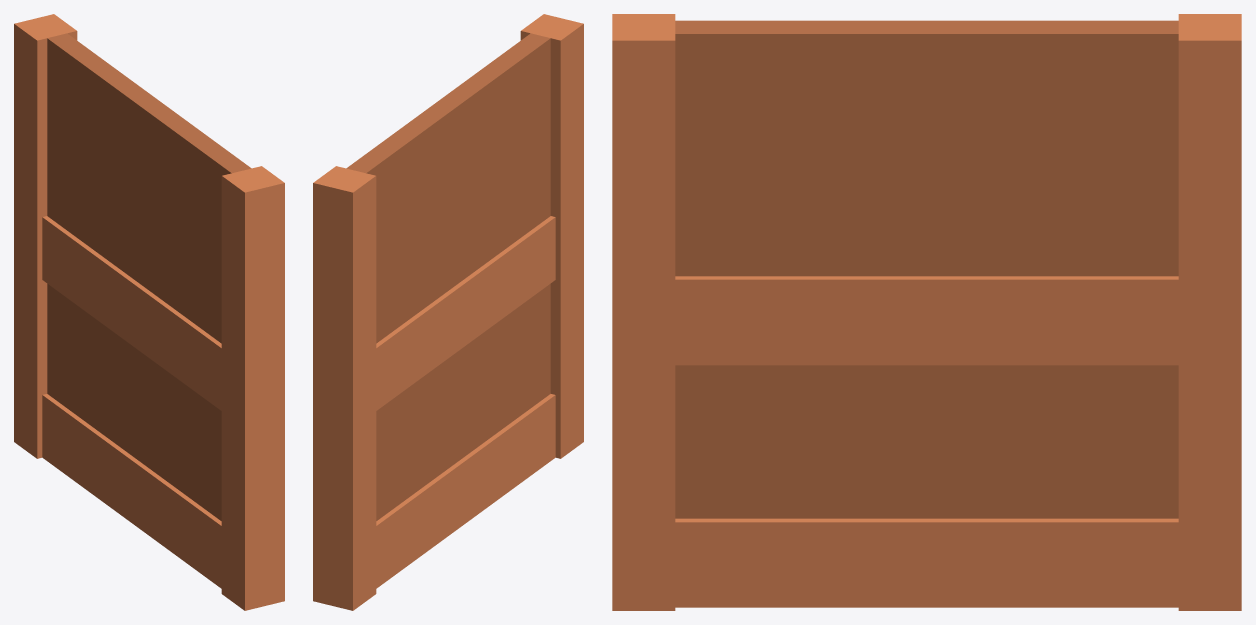
Rendered from wallWoodDetailHorizontal.obj.
3 renders of one model, left to right at view 1: azimuth 30°, elevation 25°; view 2: azimuth 150°, elevation 25°; view 3: azimuth 270°, elevation 25°, orthographic. The views are drawn at different scales.
Parts seen in each view (by area): view 1: wallWoodDetailHorizontal; view 2: wallWoodDetailHorizontal; view 3: wallWoodDetailHorizontal.
Part boxes in pixels (x1,y1,x2,y2): wallWoodDetailHorizontal: [14, 14, 284, 610]; wallWoodDetailHorizontal: [313, 14, 583, 610]; wallWoodDetailHorizontal: [612, 14, 1241, 610].
Bounding box in the file's own units: 0.1 × 1 × 1.
